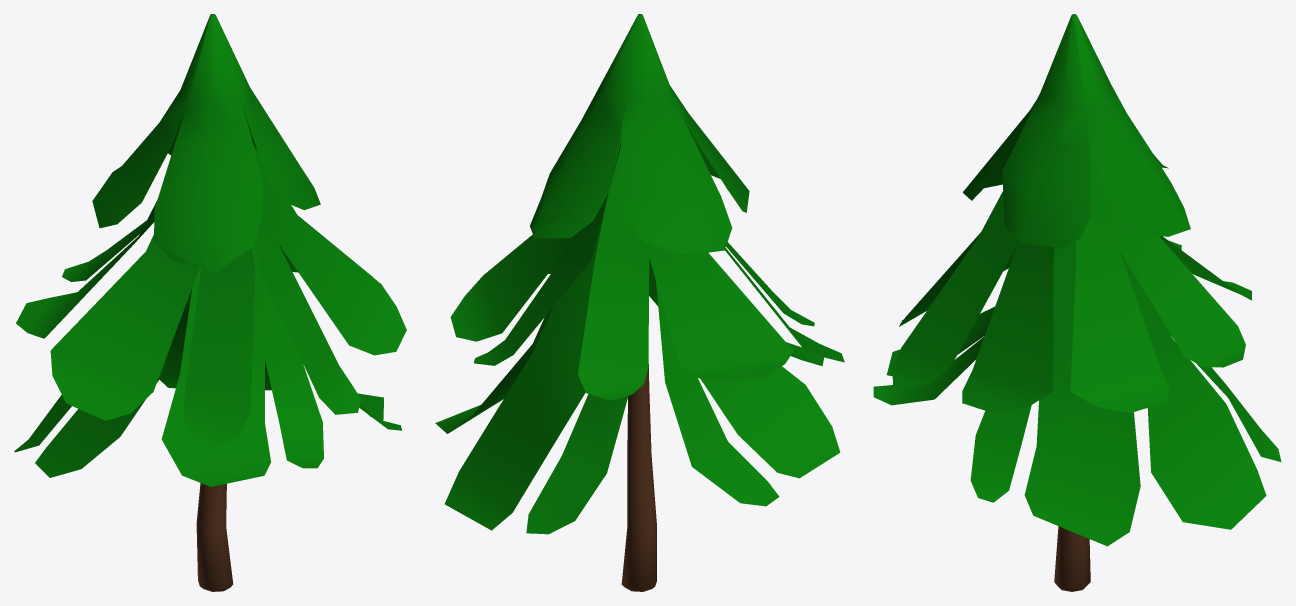
The model's file is pineTree01.fbx.
3 renders of one model, left to right at view 1: azimuth 30°, elevation 25°; view 2: azimuth 150°, elevation 25°; view 3: azimuth 270°, elevation 25°, orthographic.
Visible parts, largest first — view 1: pineTree01_LOD0; view 2: pineTree01_LOD0; view 3: pineTree01_LOD0.
Boxes of the visible parts, x1=… form: pineTree01_LOD0: x1=14, y1=14, x2=406, y2=591; pineTree01_LOD0: x1=435, y1=14, x2=844, y2=591; pineTree01_LOD0: x1=873, y1=14, x2=1281, y2=591.
Size of what is drawn, in the model's own units: 709 by 1047 by 680.
